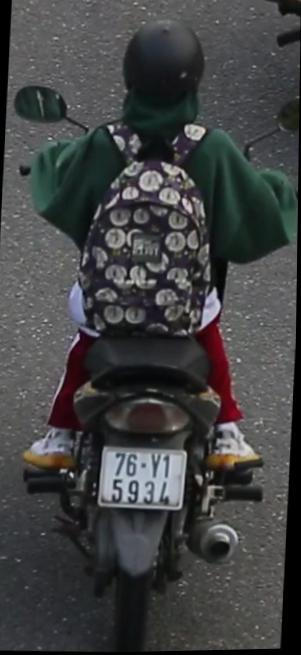LP: (95, 437, 195, 515)
helmet: (116, 16, 209, 134)
